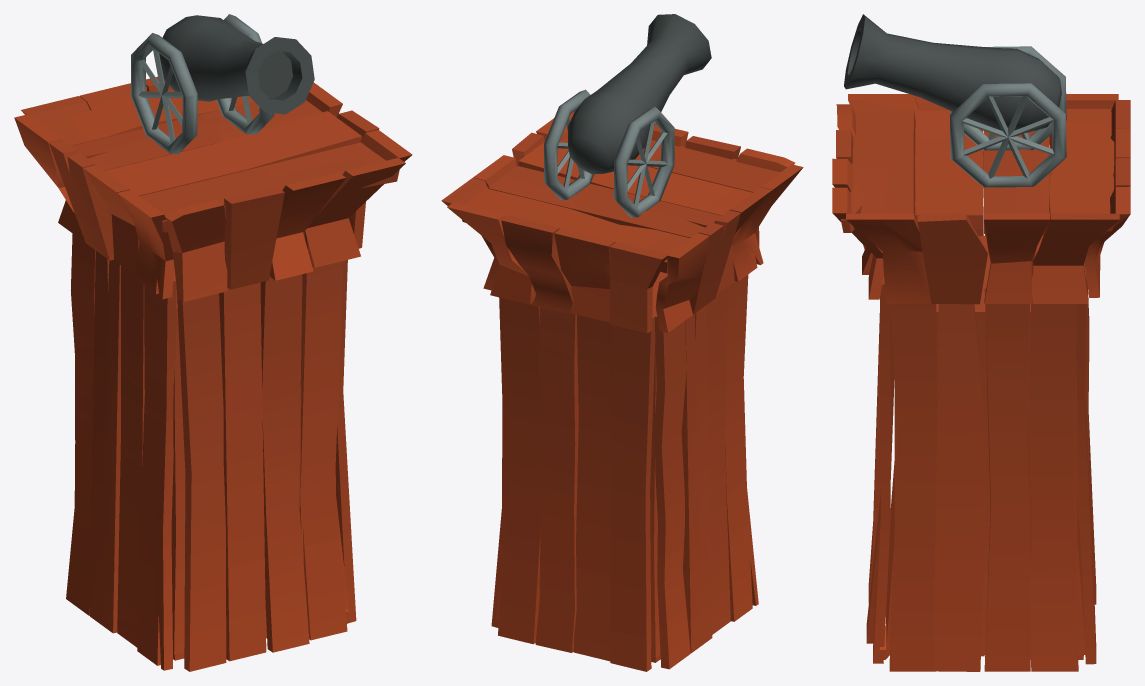
The model's file is m_towerCanon_01.fbx.
The picture shows the model from 3 angles, left to right: view 1: azimuth 30°, elevation 25°; view 2: azimuth 150°, elevation 25°; view 3: azimuth 270°, elevation 25°; orthographic projection. The views are drawn at different scales.
Visible parts, largest first — view 1: Tower, Tower.001, Canon; view 2: Tower, Tower.001, Canon; view 3: Tower, Tower.001, Canon.
Boxes of the visible parts, <box> form: Tower: <box>66,205,356,671</box>; Tower.001: <box>14,76,412,301</box>; Canon: <box>130,14,314,154</box>; Tower: <box>491,271,758,671</box>; Tower.001: <box>441,111,803,333</box>; Canon: <box>543,14,711,217</box>; Tower: <box>866,202,1096,671</box>; Tower.001: <box>832,94,1130,304</box>; Canon: <box>844,14,1066,187</box>.
Bounding box in the file's own units: 288 × 643 × 285.
